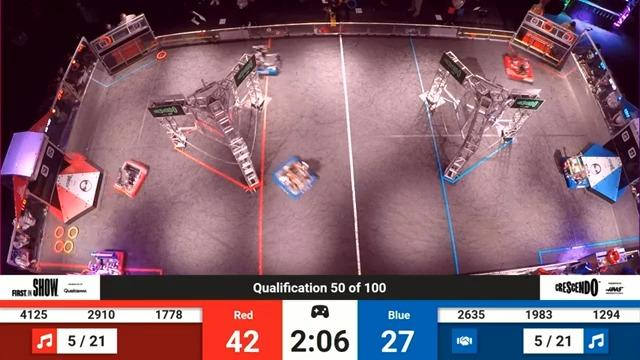robot: (273, 154, 322, 202), (552, 151, 594, 194), (109, 154, 150, 197), (243, 44, 291, 79), (83, 244, 132, 278), (502, 50, 538, 87)
